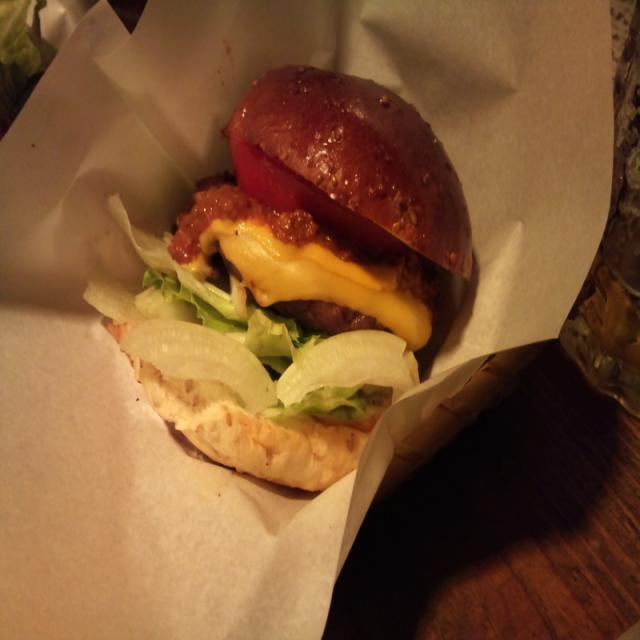Hamburger: (89, 70, 481, 492)
